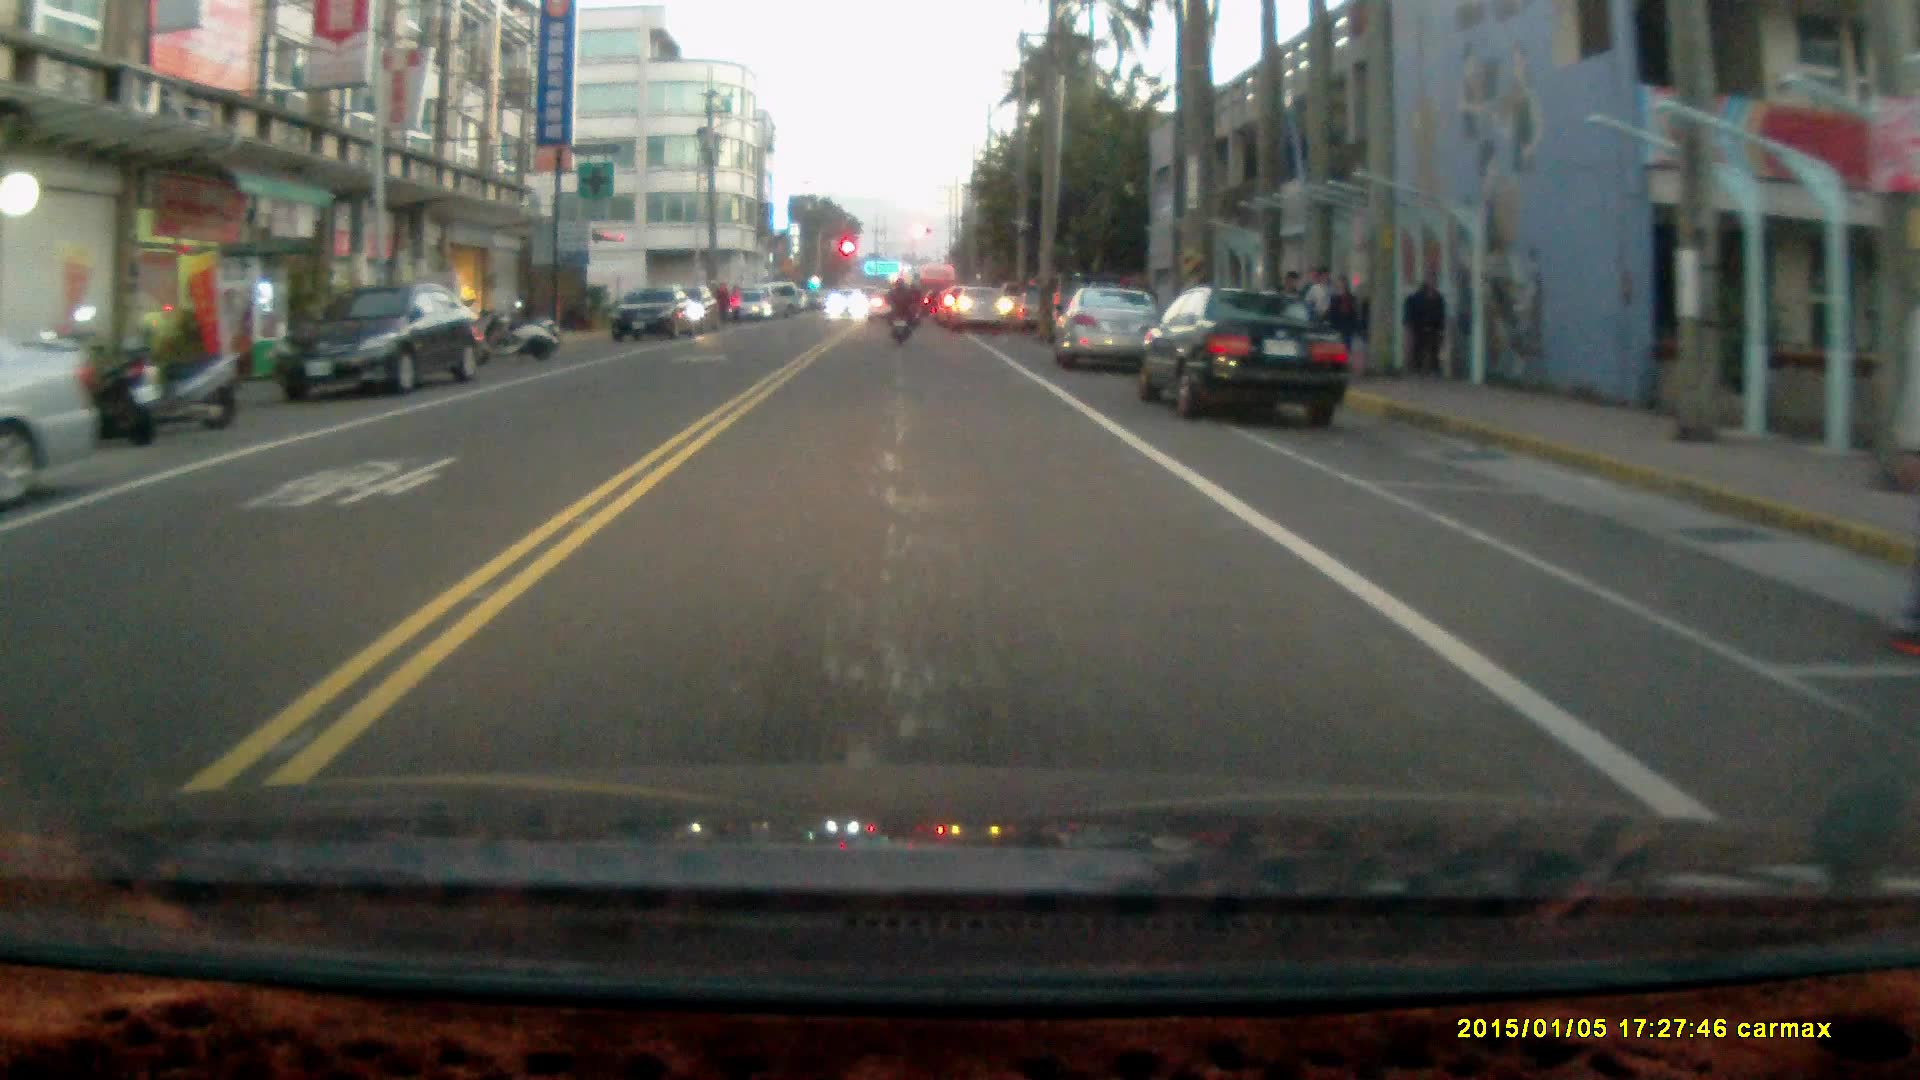pedestrian: (1400, 269, 1449, 380), (1314, 269, 1360, 369), (1303, 263, 1337, 361)
rider: (882, 274, 913, 346)
vehicle: (1137, 281, 1357, 431), (278, 281, 481, 402), (1, 333, 99, 490), (1055, 291, 1170, 380), (610, 286, 709, 345), (960, 286, 1016, 335)
